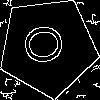O: (23, 21, 73, 66)
